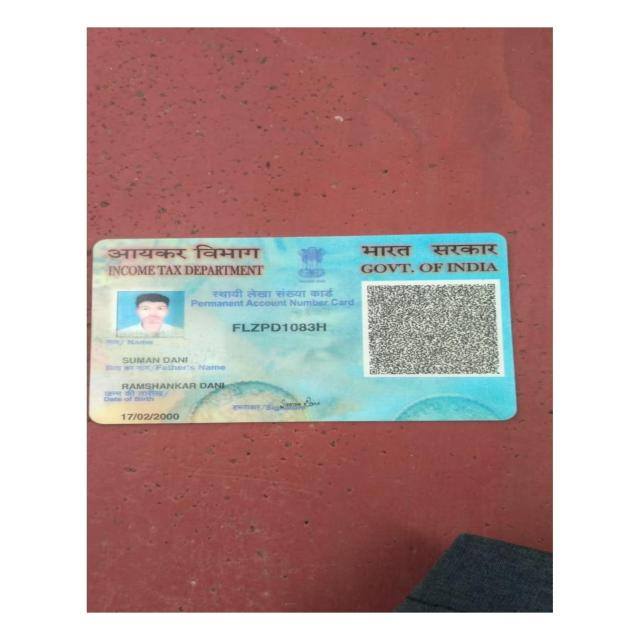pan_card: (89, 234, 514, 425)
